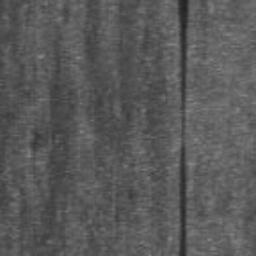Scratches: (179, 0, 190, 256)
